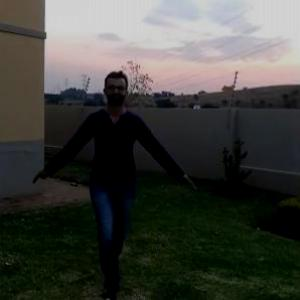land: (62, 88, 165, 268)
